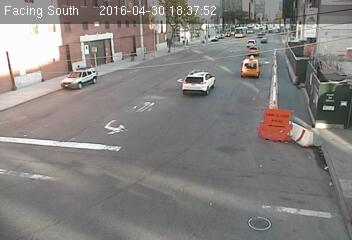neg: (165, 40, 173, 51), (205, 27, 213, 37)
